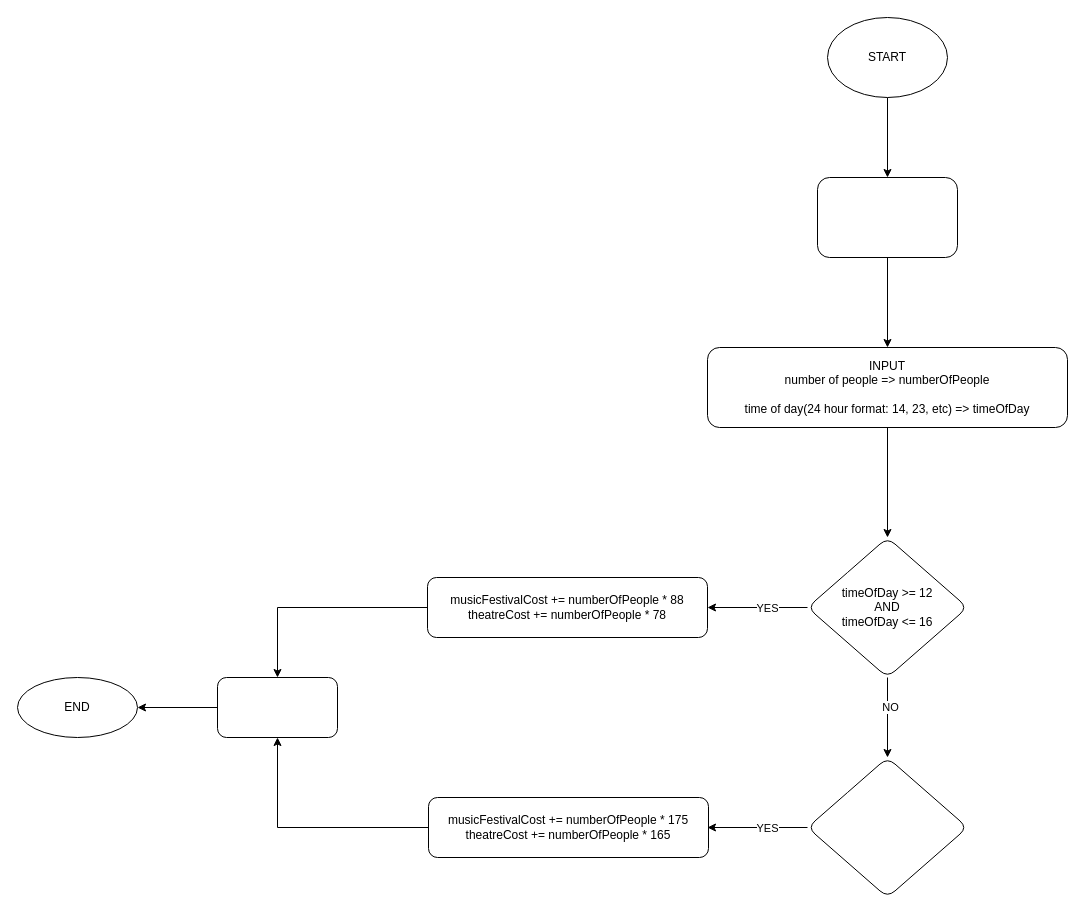
The diagram is 1085 pixels wide and 915 high, and some of its shapes have lost their labels. The shapes that lost their labels are listed below. From the top down, each one's box as (x1, y1, x2, y2) in pixels, then its label:
(816, 176, 958, 258): DECLARE numberOfPeople timeOfDay musicalFestivalCost theatreCost
(216, 676, 338, 738): RETURN musicalFestivalCost theatreCost
(806, 756, 968, 898): timeOfDay >= 18 AND timeOfDay <= 21
